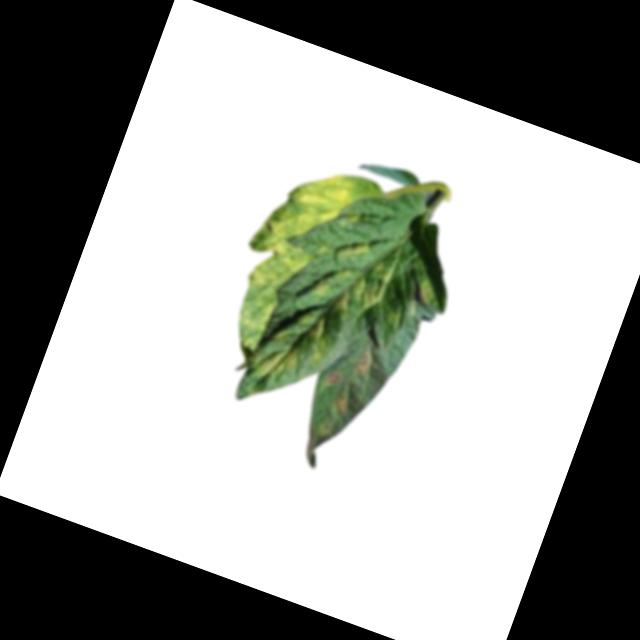Leaf_Mold: (252, 223, 399, 413), (295, 342, 380, 473), (262, 155, 357, 268), (225, 244, 307, 355)
